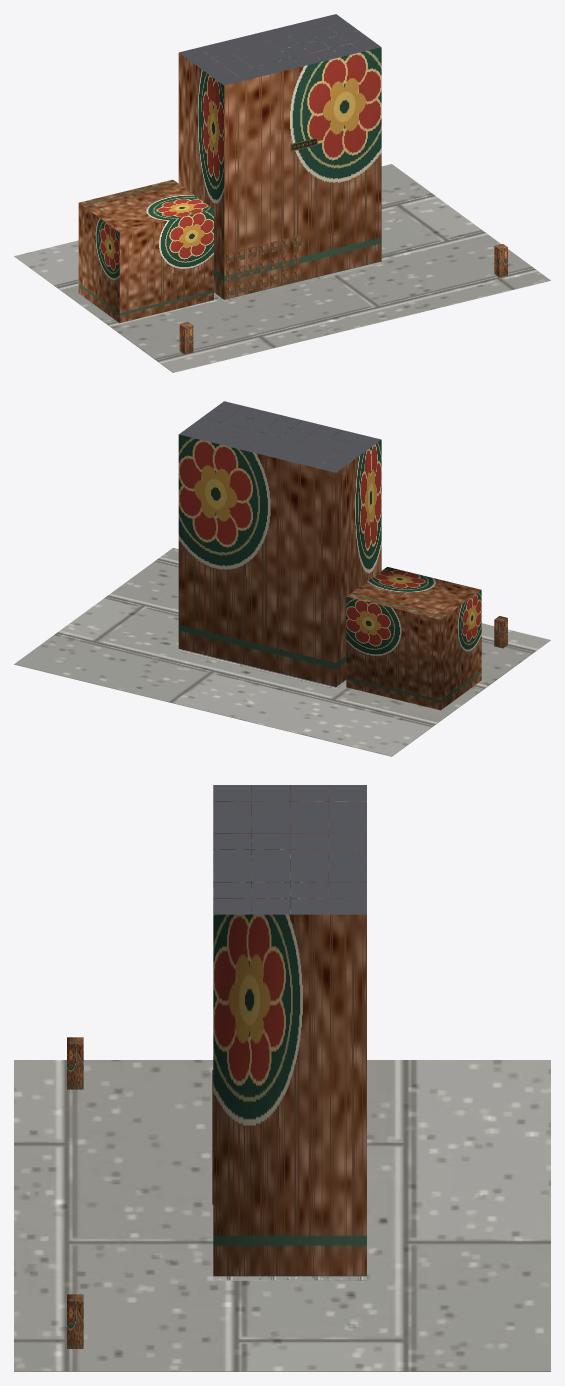
The picture shows the model from 3 angles, top to bottom: view 1: azimuth 30°, elevation 25°; view 2: azimuth 150°, elevation 25°; view 3: azimuth 270°, elevation 25°; orthographic projection. The views are drawn at different scales.
Parts seen in each view (by area): view 1: 11680_01_06227_025_02_L2__body, 11680_01_06227_025_01_L2__base, 11680_01_06227_025_03_L2__roof, 11680_01_06227_025_05_L2__openings, 11680_01_06227_025_06_L2__green; view 2: 11680_01_06227_025_02_L2__body, 11680_01_06227_025_01_L2__base, 11680_01_06227_025_03_L2__roof; view 3: 11680_01_06227_025_01_L2__base, 11680_01_06227_025_02_L2__body, 11680_01_06227_025_03_L2__roof, 11680_01_06227_025_06_L2__green.
Boxes of the visible parts, x1,y1,x2,y2 form: 11680_01_06227_025_02_L2__body: (78, 19, 381, 323); 11680_01_06227_025_01_L2__base: (14, 164, 550, 372); 11680_01_06227_025_03_L2__roof: (179, 14, 380, 85); 11680_01_06227_025_05_L2__openings: (226, 235, 301, 296); 11680_01_06227_025_06_L2__green: (179, 244, 507, 354); 11680_01_06227_025_02_L2__body: (178, 406, 481, 710); 11680_01_06227_025_01_L2__base: (14, 548, 550, 756); 11680_01_06227_025_03_L2__roof: (179, 401, 380, 472); 11680_01_06227_025_01_L2__base: (14, 1060, 550, 1371); 11680_01_06227_025_02_L2__body: (213, 785, 366, 1276); 11680_01_06227_025_03_L2__roof: (213, 785, 366, 914); 11680_01_06227_025_06_L2__green: (67, 1037, 83, 1348).
Size of the model in its own units: 96 by 52.72 by 70.
Materials: 5 (5 with a texture image).
